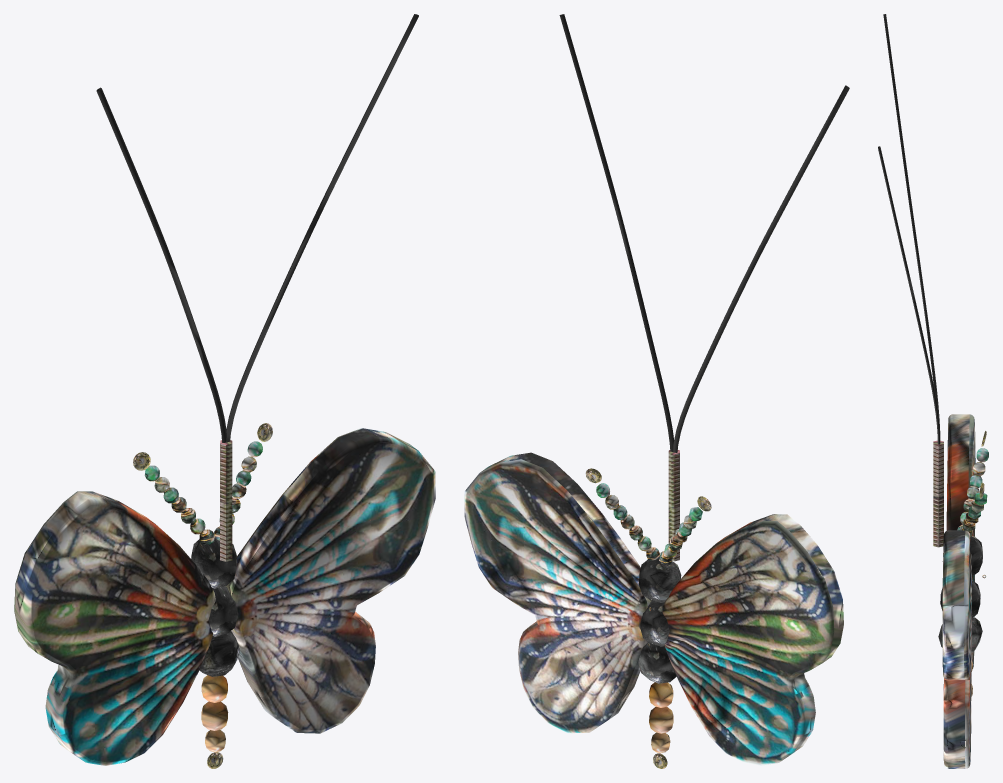
The model's file is DurgaKupuKupu.obj.
3 renders of one model, left to right at view 1: azimuth 30°, elevation 25°; view 2: azimuth 150°, elevation 25°; view 3: azimuth 270°, elevation 25°, orthographic. The views are drawn at different scales.
Visible parts, largest first — view 1: polymsh24, polymsh26, polymsh3, polymsh2, polymsh_detached, polymsh5, polymsh4; view 2: polymsh24, polymsh26, polymsh3, polymsh2, polymsh4, polymsh_detached, polymsh5; view 3: polymsh24, polymsh26, polymsh_detached, polymsh3, polymsh5, polymsh4.
Boxes of the visible parts, box(x1,y1,x2,y2) form: polymsh24: box(14, 428, 435, 765); polymsh26: box(96, 14, 418, 442); polymsh3: box(191, 537, 239, 676); polymsh2: box(201, 675, 228, 752); polymsh_detached: box(220, 440, 232, 561); polymsh5: box(144, 465, 214, 544); polymsh4: box(214, 441, 262, 540); polymsh24: box(464, 452, 843, 765); polymsh26: box(559, 14, 849, 452); polymsh3: box(638, 558, 681, 683); polymsh2: box(649, 682, 673, 753); polymsh4: box(596, 483, 659, 560); polymsh_detached: box(668, 450, 679, 561); polymsh5: box(659, 507, 702, 564); polymsh24: box(942, 414, 975, 768); polymsh26: box(878, 14, 940, 444); polymsh_detached: box(933, 440, 943, 547); polymsh3: box(938, 535, 982, 652); polymsh5: box(957, 448, 988, 530); polymsh4: box(960, 492, 987, 536).
Bounding box in the file's own units: 261 × 460 × 70.49.
Materials: 11 (10 with a texture image).
